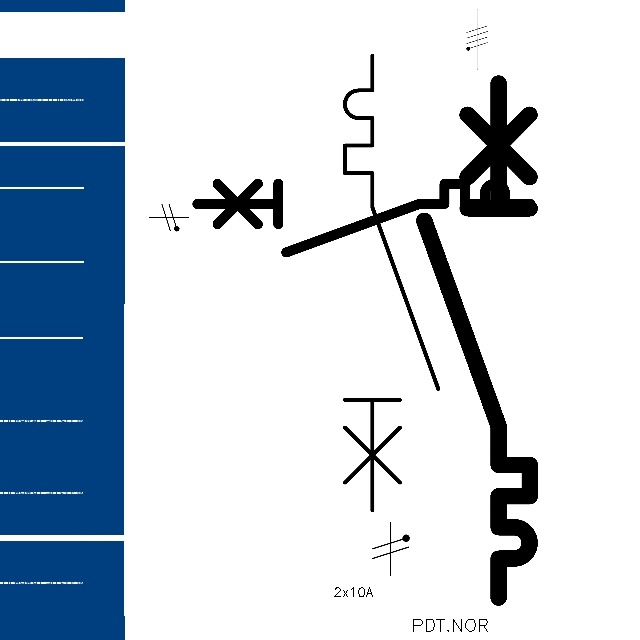interruptor_termomagnetico: (411, 70, 543, 611), (333, 44, 450, 522), (188, 175, 539, 261)
